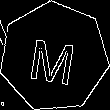M_N: (28, 29, 81, 85)
